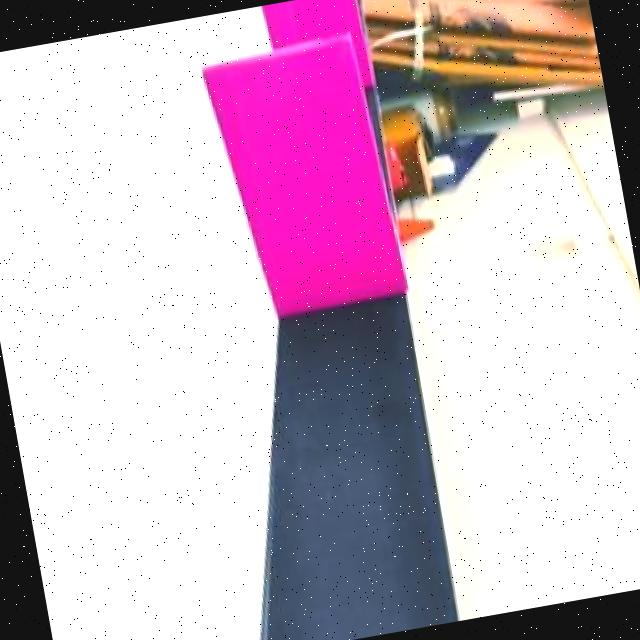xparking: (229, 40, 403, 322)
